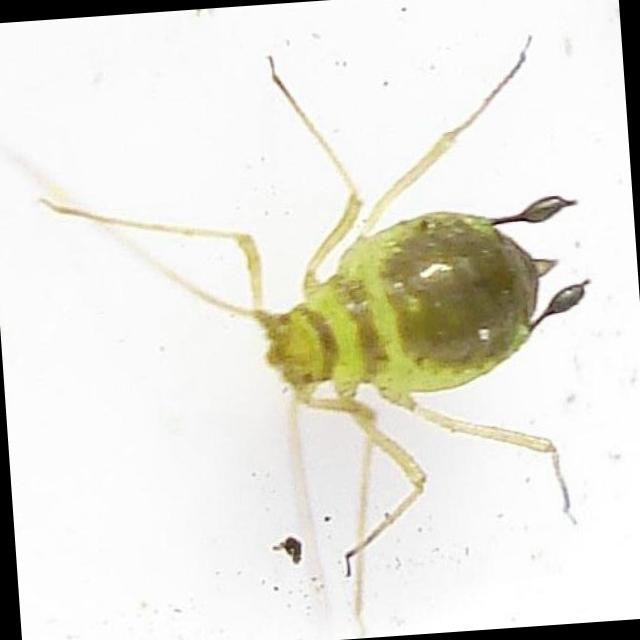aphid: (52, 26, 604, 612)
